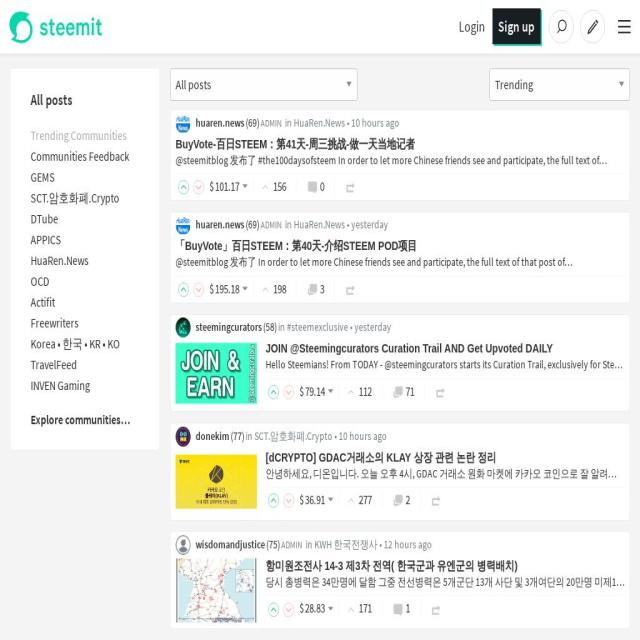button: (9, 11, 103, 51), (492, 8, 540, 45), (176, 500, 256, 518), (176, 608, 256, 626), (176, 392, 256, 409), (574, 9, 610, 44), (548, 9, 574, 44), (176, 119, 196, 137), (176, 324, 196, 342), (176, 432, 196, 450), (176, 222, 196, 239), (176, 541, 196, 558)
field: (170, 67, 358, 101), (489, 67, 630, 101)
heading: (266, 341, 553, 356), (176, 238, 417, 254), (176, 136, 415, 151), (266, 558, 518, 572), (266, 449, 496, 464)
image: (176, 538, 256, 640), (176, 343, 256, 404), (176, 454, 256, 509), (9, 11, 103, 45), (578, 9, 606, 44), (548, 9, 574, 44), (176, 112, 190, 134), (176, 215, 190, 236), (176, 317, 190, 338), (176, 534, 190, 555), (176, 426, 190, 446), (178, 180, 190, 196), (193, 180, 205, 196), (238, 182, 250, 198), (344, 180, 356, 196), (178, 282, 190, 298), (193, 282, 205, 298), (238, 284, 250, 300), (344, 282, 356, 298), (268, 384, 280, 400), (283, 384, 295, 400), (324, 386, 336, 402), (434, 384, 446, 400), (268, 493, 280, 509), (283, 493, 295, 509), (324, 495, 336, 511), (430, 493, 442, 509), (268, 602, 280, 618), (283, 602, 295, 618), (324, 603, 336, 619), (430, 602, 442, 618), (260, 180, 271, 196), (307, 180, 318, 196), (260, 282, 271, 298), (307, 282, 318, 298), (392, 384, 403, 400), (392, 493, 403, 509), (392, 602, 403, 618), (346, 384, 356, 400), (346, 493, 356, 509), (346, 602, 356, 618)
link: (176, 152, 606, 168), (175, 254, 572, 270), (265, 356, 640, 372), (265, 465, 640, 481), (265, 573, 640, 589), (30, 148, 130, 164), (30, 189, 120, 206), (31, 335, 120, 352), (255, 428, 332, 443), (196, 536, 265, 552), (196, 319, 262, 335), (314, 536, 378, 552), (287, 319, 348, 335), (31, 377, 90, 393), (31, 252, 88, 268), (293, 114, 345, 130), (293, 216, 345, 232), (31, 314, 78, 331), (31, 90, 72, 109), (196, 114, 244, 130), (196, 216, 244, 232), (31, 356, 77, 372), (458, 16, 485, 36), (196, 428, 230, 443), (31, 231, 61, 247), (31, 210, 58, 227), (31, 168, 55, 185), (31, 293, 55, 310), (30, 273, 50, 289)
text: (30, 125, 140, 146), (31, 411, 130, 427), (350, 114, 400, 130), (383, 536, 432, 552), (339, 428, 387, 443), (354, 319, 392, 335), (351, 216, 388, 232), (260, 218, 282, 232), (281, 537, 303, 551), (260, 116, 282, 129), (214, 280, 228, 297), (246, 114, 260, 130), (214, 178, 228, 194), (246, 216, 260, 232), (263, 319, 277, 335), (266, 536, 280, 552), (273, 280, 286, 297), (359, 600, 372, 617), (230, 428, 244, 443), (273, 178, 286, 194), (359, 383, 372, 399), (359, 491, 372, 507), (228, 280, 240, 297), (313, 600, 325, 617), (228, 178, 240, 194), (313, 383, 325, 399), (313, 491, 325, 507), (304, 600, 314, 617), (304, 383, 314, 399), (304, 491, 314, 507), (405, 383, 414, 399), (284, 114, 292, 130), (344, 114, 352, 130), (284, 216, 292, 232), (344, 216, 352, 232), (305, 536, 313, 552), (278, 319, 285, 335), (377, 536, 384, 552), (245, 428, 252, 443), (210, 280, 216, 297), (300, 600, 306, 617), (210, 178, 216, 194), (348, 319, 354, 335), (300, 383, 306, 399), (300, 491, 306, 507), (332, 428, 338, 443), (405, 600, 410, 617), (405, 491, 410, 507), (320, 280, 324, 297), (320, 178, 324, 194)
